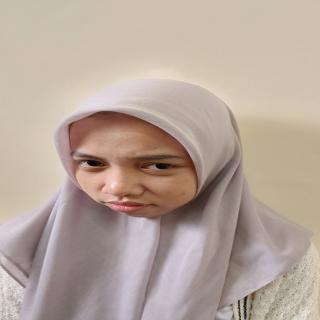Takut: (57, 101, 215, 225)
